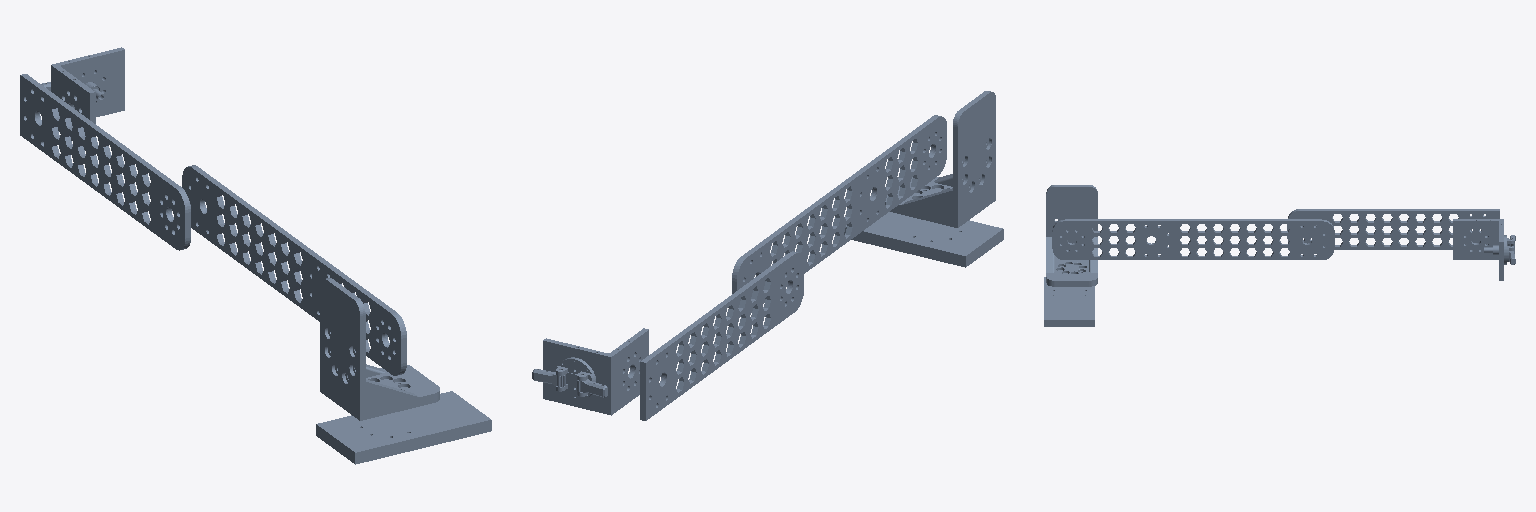
robot.urdf — threedofexample:
<?xml version="1.0"?>

<robot name="threedofexample">

  <!-- ******************************************************** -->
  <!-- ******************* Kinematic Chain ******************** -->
  <!-- ******************************************************** -->
  <!-- Note the 'origin' tag in the joints defines the shift and
       reorientation, i.e. the transform.  For moving joints, this
       happens before the continuous joint rotates around 'axis'. -->

  <!-- World can't take a visual element (at least in Gazebo). -->
  <link name="world"/>

  <joint name="placement" type="fixed">
    <parent link="world"/>
    <child  link="baseplate"/>
    <origin xyz="0 0 0" rpy="0 0 0"/>			<!-- WHERE IS THE BASE -->
  </joint>

  <!-- BASE PLATE: Shift across the base plate to the base motor. --> 
  <link name="baseplate">
      <visual>
      <origin xyz="0.0762 0.0 0.0" rpy="1.5708 0 3.1416"/>
      <geometry>
        <mesh filename="package://project/meshes/Lebaseplate.STL"
	      scale="0.001 0.001 0.001"/> 
      </geometry>
      <material name="gray"/>
    </visual>
  </link>

  <joint name="baseplate" type="fixed">
    <parent link="baseplate"/>
    <child  link="basemotor"/>
    <origin xyz="-0.017907 0.042 0.0127" rpy="0 0 0"/>
  </joint>

  <!-- BASE MOTOR: Thickness: X5 = 31.1mm, X8 = 45.1mm -->
  <link name="basemotor">
    <visual>
      <origin xyz="0 0.0 0.0" rpy="0 0 3.1416"/>
      <geometry>
        <mesh filename="package://project/meshes/X5.stl"
	      scale="0.001 0.001 0.001"/>
      </geometry>
      <material name="hebi"/>
    </visual>
  </link>

  <joint name="base" type="continuous">
    <parent link="basemotor"/>
    <child  link="lbracket"/>
    <origin xyz="0 0 0.0311" rpy="0 0 0"/>
    <axis   xyz="0 0 1"/>
  </joint>

  <!-- BASE L BRACKET: Shift and rotate across the L bracket. -->
  <link name="lbracket">
    <visual>
    <origin xyz="-0.051308 0.0381 0.0" rpy="1.5708 0 0"/>
      <geometry>
        <mesh filename="package://project/meshes/Lebracket.STL"
	      scale="0.001 0.001 0.001"/> <!-- CHANGE STL FILE to new bracket -->
      </geometry>
      <material name="gray"/>
    </visual>
  </link>

  <joint name="lbracket" type="fixed">
    <parent link="lbracket"/>
    <child  link="shouldermotor"/>
    <origin xyz="-0.044958 0.0 0.058928" rpy="1.5708 0 1.5708"/>	  <!-- L BRACKET DIMENIONS -->
  </joint>

  <!-- SHOULDER MOTOR: Thickness: X5 = 31.1mm, X8 = 45.1mm -->
  <link name="shouldermotor">
    <visual>
    <origin xyz="0 0.0 0.0" rpy="0 0 -1.5708"/>
      <geometry>
        <mesh filename="package://project/meshes/X8.stl"
	      scale="0.001 0.001 0.001"/>
      </geometry>
      <material name="hebi"/>
    </visual>
  </link>

  <joint name="shoulder" type="continuous">
    <parent link="shouldermotor"/>
    <child  link="upperarm"/>
    <origin xyz="0 0 0.05145" rpy="0 0 0"/>
    <axis   xyz="0 0 1"/>
  </joint>

  <!-- UPPER ARM: Shift across the upper arm (1/4in thickness) -->
  <link name="upperarm">
    <visual>
      <origin xyz="-0.03 -0.0325 0" rpy="-1.5708 0 0"/>
      <geometry>
        <mesh filename="package://project/meshes/BottomLink.STL"
              scale="0.001 0.001 0.001"/> <!-- CHANGE STL FILE to lower link -->
      </geometry>
      <material name="gray"/>
    </visual>
  </link>

  <joint name="toparm" type="fixed">
    <parent link="upperarm"/>
    <child  link="elbowmotor"/>
    <origin xyz="0.354 0.0 -0.00635" rpy="3.1416 0 -1.5708"/>		  <!-- UPPER ARM DIMENIONS -->
  </joint>

  <!-- Elbow motor.  Thickness: X5 = 31.1mm, X8 = 45.1mm -->
  <link name="elbowmotor">
    <visual>
      <origin xyz="0 0 0" rpy="0 0 -1.5708"/>
      <geometry>
        <mesh filename="package://project/meshes/X5.stl"
	      scale="0.001 0.001 0.001"/>
      </geometry>
      <material name="hebi"/>
    </visual>
  </link>

  <joint name="elbow" type="continuous">
    <parent link="elbowmotor"/>
    <child  link="lowerarm"/>
    <origin xyz="0 0 0.0311" rpy="0 0 0"/>
    <axis   xyz="0 0 1"/>
  </joint>

  <!-- Top Link! -->
  <link name="lowerarm">
    <visual>
      <origin xyz="0.0325 0.03 0.0" rpy="1.5708 0 -1.5708"/>		
      <geometry>
        <mesh filename="package://project/meshes/AdjustedTopLink.STL"
        scale="0.001 0.001 0.001"/> <!-- CHANGE STL FILE to upper link-->
      </geometry>
      <material name="gray"/>
    </visual>
  </link>

  <joint name="linkgrip" type="fixed">
    <parent link="lowerarm"/>
    <child  link="grippermotor"/>
    <origin xyz="0.0 -0.255 0" rpy="3.1416 0 0"/>		  <!-- UPPER ARM DIMENIONS -->
  </joint>
  
  <!-- Motor to Turn gripper! -->
  <link name="grippermotor">
    <visual>
      <origin xyz="0 0 0" rpy="0 0 1.5708"/>
      <geometry>
        <mesh filename="package://project/meshes/X5.stl"
	      scale="0.001 0.001 0.001"/>
      </geometry>
      <material name="hebi"/>
    </visual>
  </link>

  <joint name="wrist" type="continuous">
    <parent link="grippermotor"/>
    <child  link="gripperbracket"/>
    <origin xyz="0 0 0.027925" rpy="0 0 0"/>
    <axis   xyz="0 0 1"/>
  </joint>

 <!-- Bracket that holds gripper -->
  <link name="gripperbracket">
    <visual>
      <origin xyz="-0.0325 0.05857 0" rpy="1.5708 -1.5708 1.5708"/>		
      <geometry>
        <mesh filename="package://project/meshes/Leassembly.STL"
        scale="0.001 0.001 0.001"/> <!-- CHANGE STL FILE to gripper plate!!-->
      </geometry>
      <material name="gray"/>
    </visual>
  </link>

  <joint name="gripper" type="fixed">
    <parent link="gripperbracket"/>
    <child  link="tip"/>
    <origin xyz="0 0.05829 0.04" rpy="0 0 0"/>
    <axis   xyz="0 0 1"/>
  </joint>
  
  <!-- TIP FRAME -->
  <link name="tip"/>

  
  <!-- *************************************************** -->
  <!-- *************** Visual Link Elements ************** -->
  <!-- *************************************************** -->
  <!-- Note collada .dae files have better color/texture   -->
  <!-- suppport that STL files.                            -->

  <!-- Colors -->
  <material name="wood">  <color rgba="0.82 0.62 0.04 1"/>  </material>
  <material name="hebi">  <color rgba="0.82 0.06 0.06 1"/>  </material>
  <material name="gray">  <color rgba="0.54 0.60 0.68 1"/>  </material>

</robot>

--- Render facts (derived) ---
3 views of the same robot in one strip: view 1: azimuth 30°, elevation 25°; view 2: azimuth 150°, elevation 25°; view 3: azimuth 270°, elevation 25° (orthographic).
Model threedofexample with 11 links and 10 joints (4 continuous, 6 fixed), rooted at world, posed every joint at zero.
Visible links, largest first — view 1: upperarm, lowerarm, lbracket, baseplate, gripperbracket; view 2: upperarm, lowerarm, lbracket, gripperbracket, baseplate; view 3: upperarm, lowerarm, lbracket, gripperbracket, baseplate.
Boxes of the visible links, left/top/right/bottom form: upperarm: left=182, top=165, right=406, bottom=375; lowerarm: left=20, top=74, right=190, bottom=250; lbracket: left=320, top=278, right=439, bottom=420; baseplate: left=316, top=391, right=491, bottom=464; gripperbracket: left=41, top=47, right=124, bottom=150; upperarm: left=732, top=115, right=946, bottom=316; lowerarm: left=640, top=251, right=803, bottom=420; lbracket: left=885, top=91, right=995, bottom=227; gripperbracket: left=532, top=328, right=648, bottom=415; baseplate: left=844, top=212, right=1003, bottom=267; upperarm: left=1052, top=219, right=1334, bottom=259; lowerarm: left=1287, top=209, right=1499, bottom=249; lbracket: left=1046, top=185, right=1097, bottom=286; gripperbracket: left=1453, top=219, right=1515, bottom=280; baseplate: left=1044, top=277, right=1094, bottom=326.
Bounding box of the posed robot: 0.1524 × 0.7096 × 0.1688 m (x, y, z).
Meshes: 7 distinct files referenced, 5 mesh visuals loaded (5 binary STL); not drawn: 4 (reference not matched to a file when rendering).
